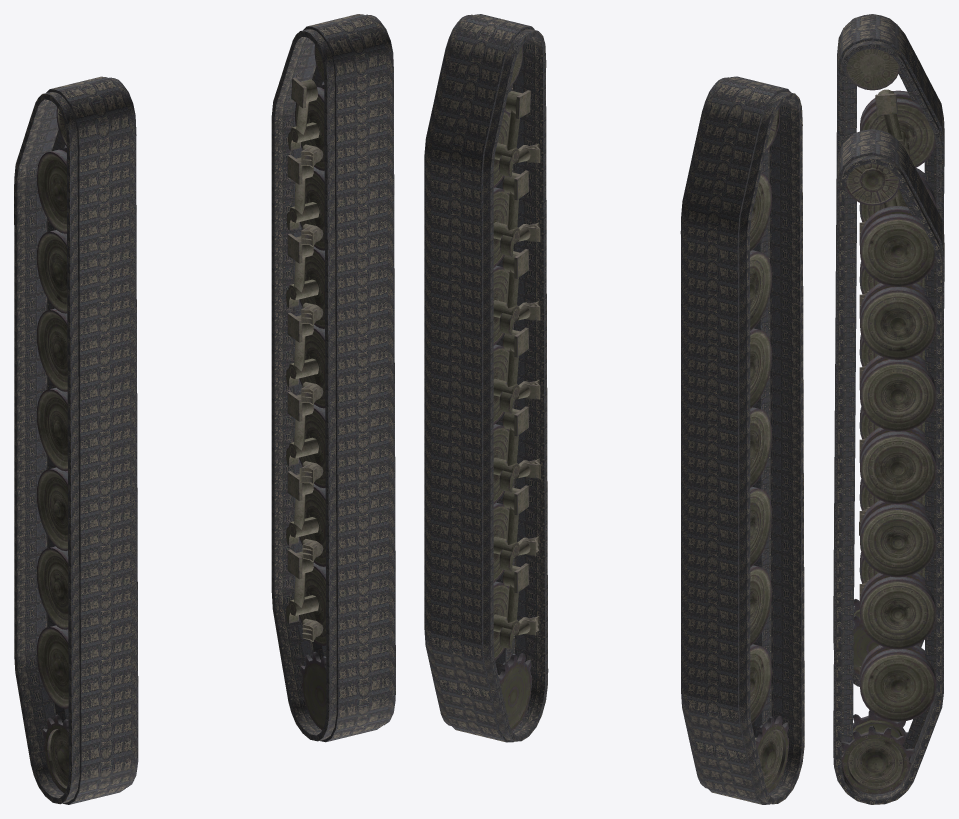
Rendered from Chassis.glb.
3 renders of one model, left to right at view 1: azimuth 30°, elevation 25°; view 2: azimuth 150°, elevation 25°; view 3: azimuth 270°, elevation 25°, orthographic. The views are drawn at different scales.
Visible parts, largest first — view 1: set_3_group_0, set_5_group_0, set_0_group_0, set_1_group_0, set_2_group_0, set_4_group_0; view 2: set_3_group_0, set_5_group_0, set_0_group_0, set_1_group_0, set_2_group_0, set_4_group_0; view 3: set_0_group_0, set_5_group_0, set_1_group_0, set_3_group_0, set_4_group_0.
Part boxes in pixels (box(x1,y1,x2,y2)): set_3_group_0: box(14, 76, 138, 804); set_5_group_0: box(271, 14, 395, 742); set_0_group_0: box(286, 45, 326, 729); set_1_group_0: box(37, 107, 68, 793); set_2_group_0: box(67, 365, 137, 458); set_4_group_0: box(325, 302, 394, 396); set_3_group_0: box(680, 76, 804, 804); set_5_group_0: box(424, 14, 548, 742); set_0_group_0: box(493, 46, 540, 730); set_1_group_0: box(750, 108, 788, 793); set_2_group_0: box(753, 349, 803, 432); set_4_group_0: box(496, 287, 546, 369); set_0_group_0: box(841, 163, 936, 794); set_5_group_0: box(833, 129, 944, 804); set_1_group_0: box(846, 48, 936, 674); set_3_group_0: box(833, 14, 944, 686); set_4_group_0: box(835, 386, 855, 478).
Size of the model in its own units: 3.39 by 7.12 by 1.1.
6 materials, 6 textured.
